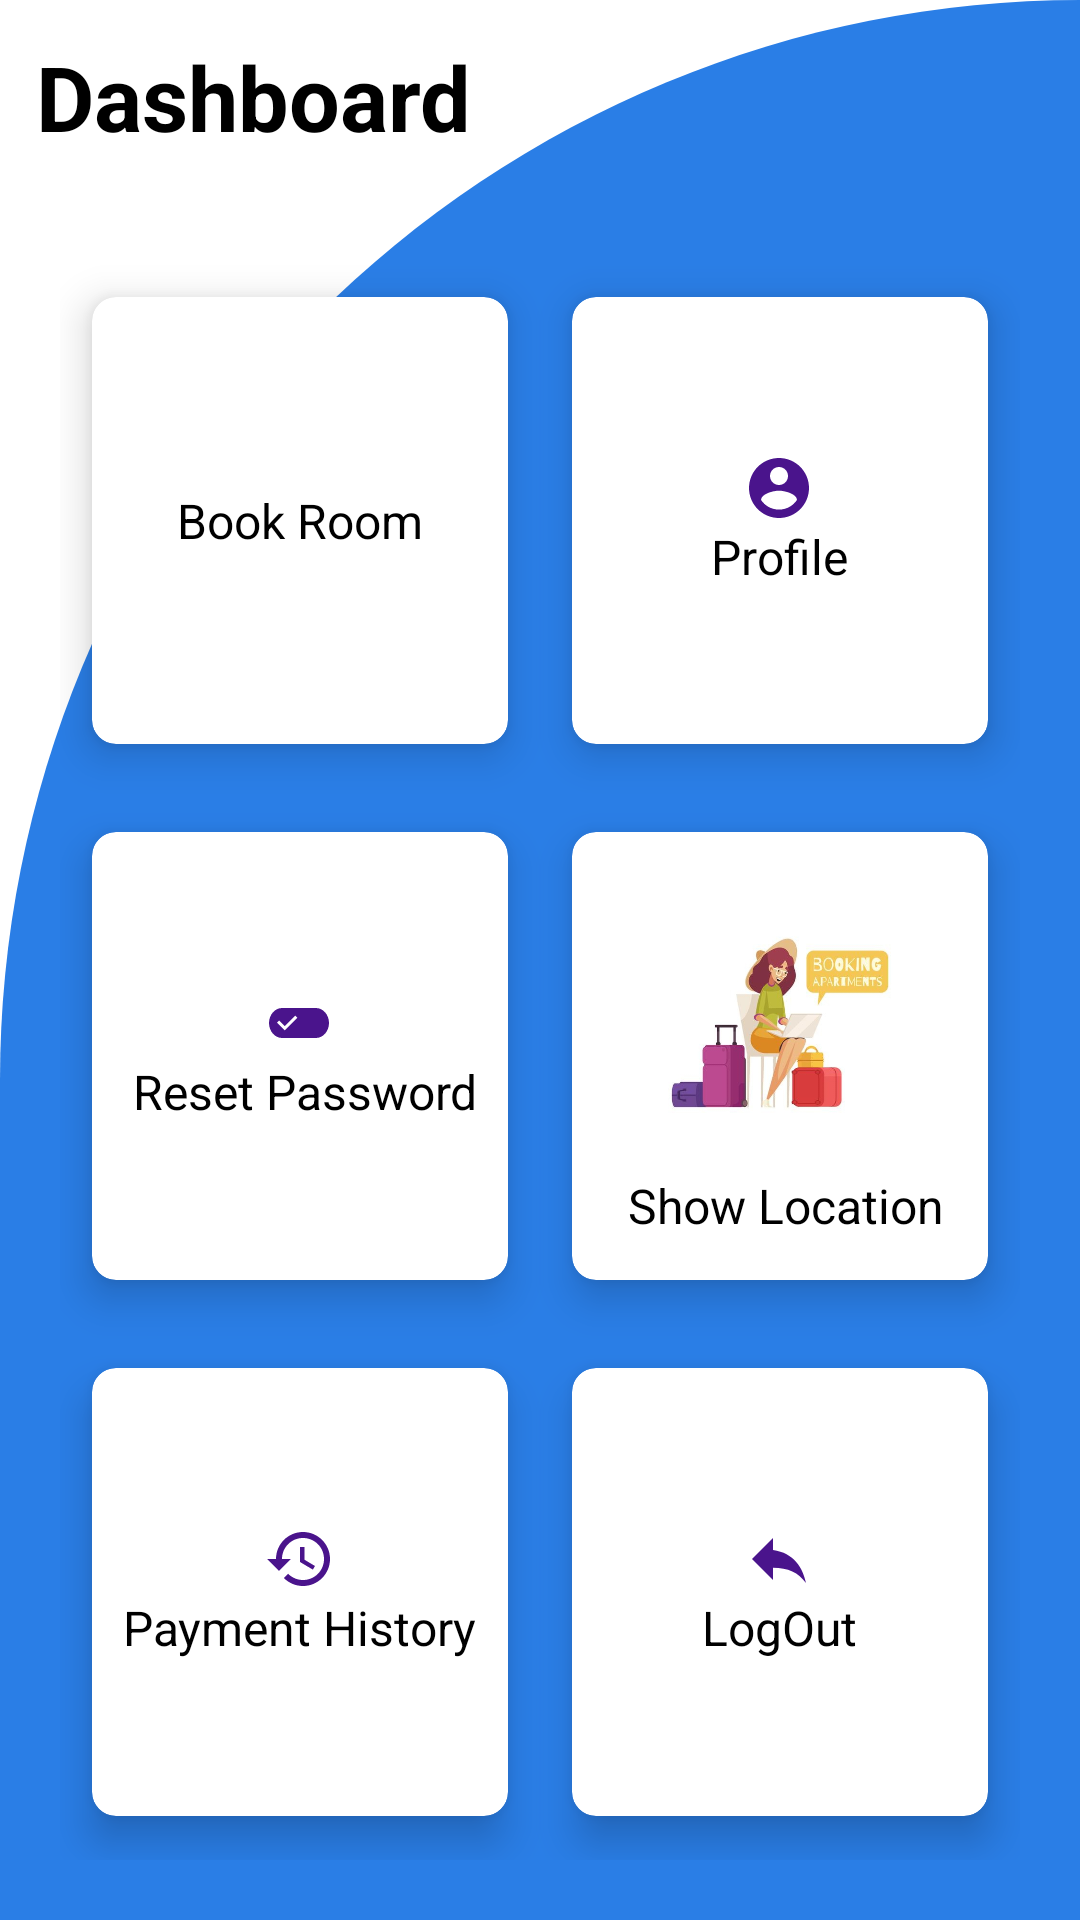

Point at icon controls on the screen. Image size 1080×1920, points as [x,y].
account circle: [779,488]
